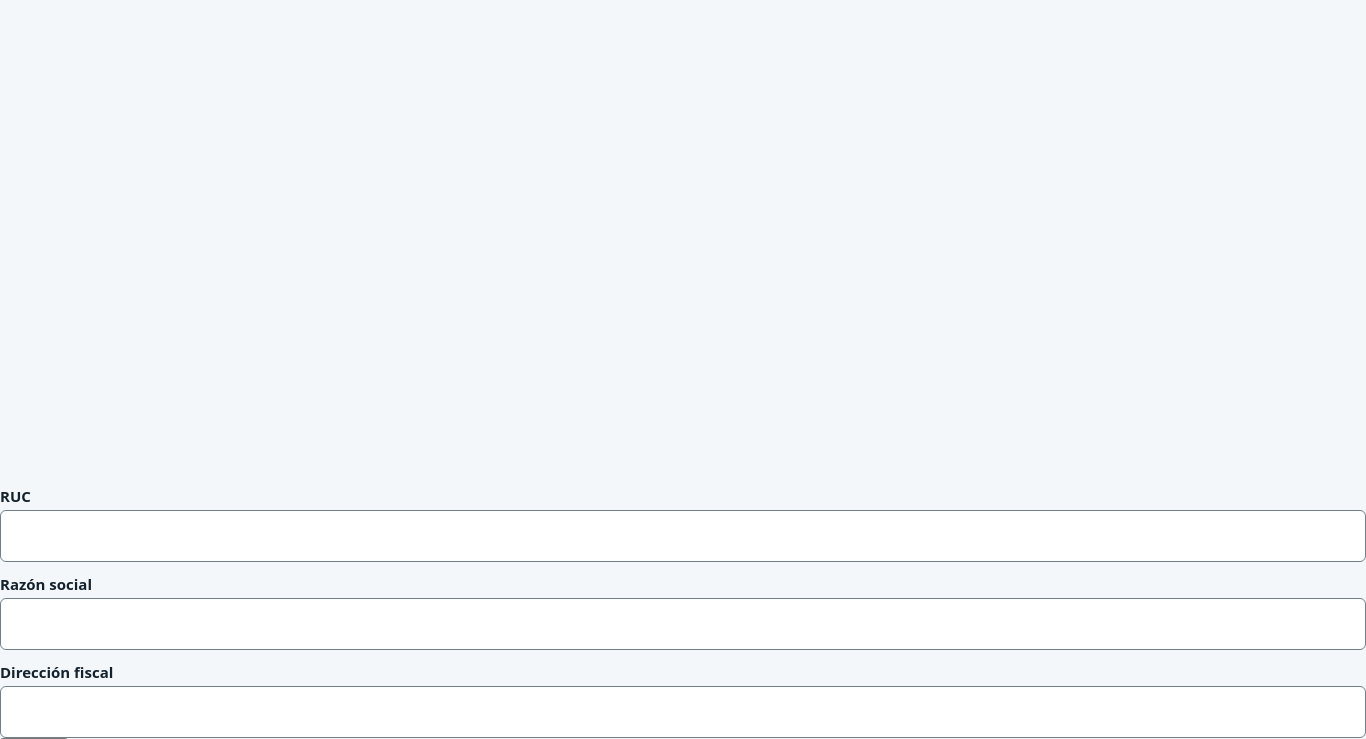
RUC con aviso: «Emitir igual» (criterio 140) › un RUC habido pero que no está activo también lleva aviso
(page scrolled)
Type "20100070970" into the field labelled "RUC" at {"x": 683, "y": 536}, box [1,512,1365,560]
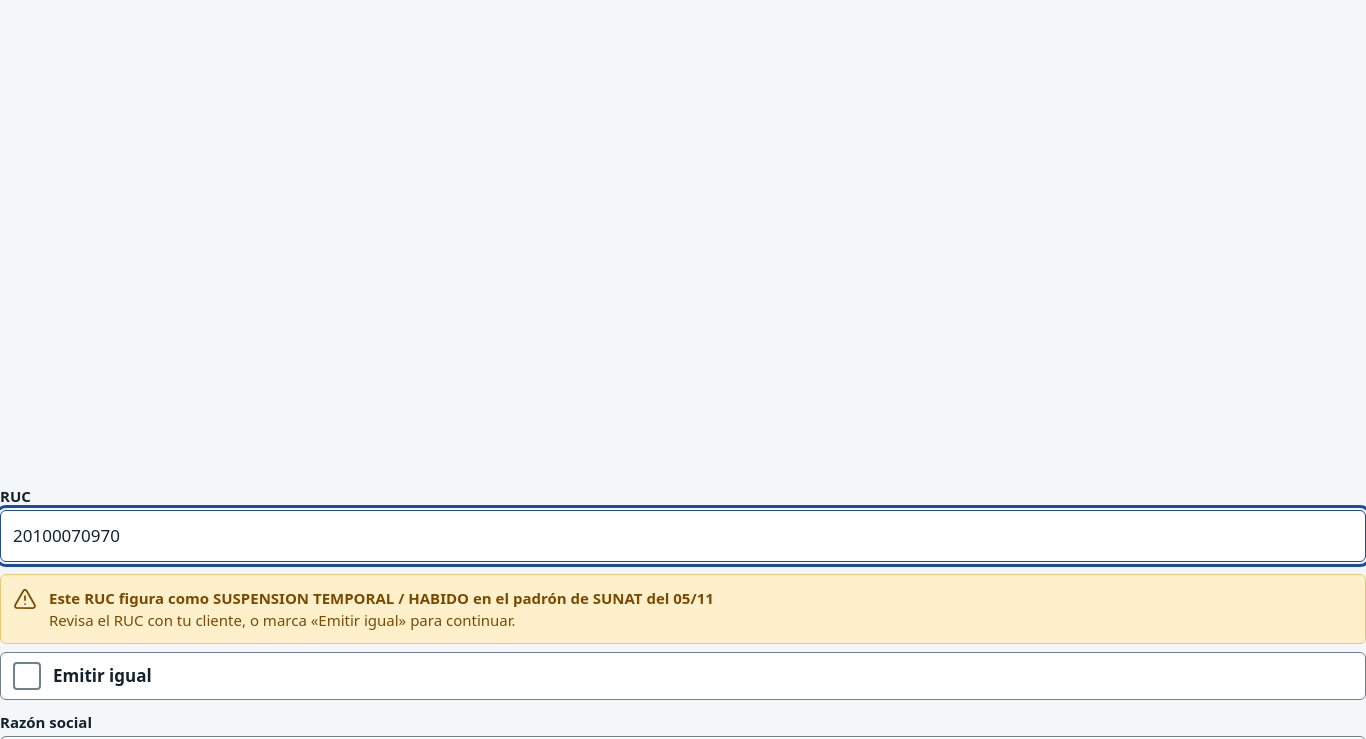
expect the text "Este RUC figura como SUSPENSION TEMPORAL / HABIDO en el padrón de SUNAT del 05/11" is shown: met, box [49,588,714,608]
